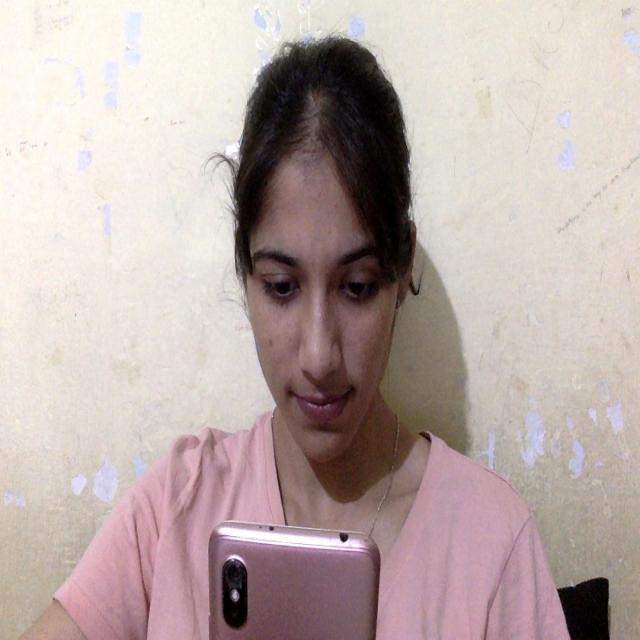Phone: (205, 519, 386, 640)
